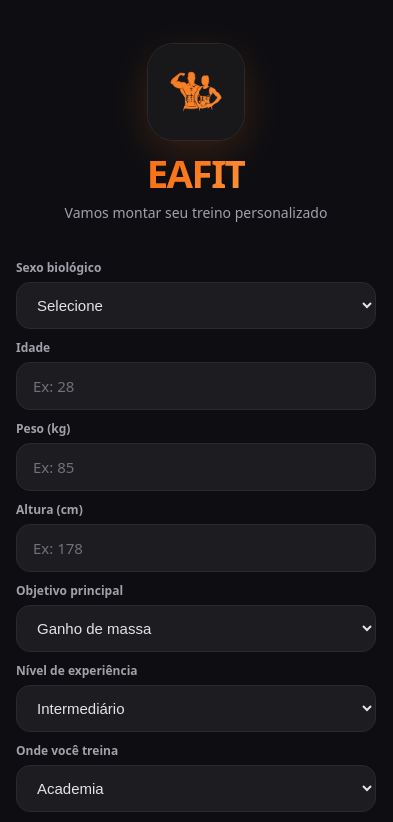
Scenario: OnboardingScreen › valida {"sexo":""}
Select "Selecione" in the dropdown labelled "Sexo biológico" at (196,306), box [16,282,376,329]
Type "30" into the number field labelled "Idade" at (196,386), box [16,362,376,410]
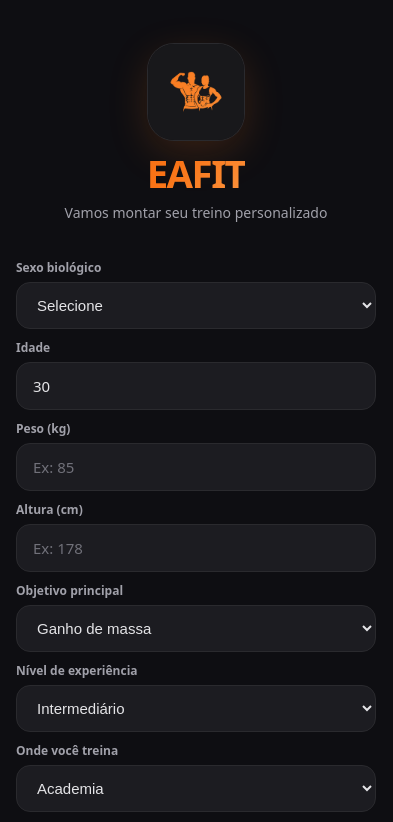
Type "80" into the number field labelled "Peso (kg)" at (196,467), box [16,443,376,491]
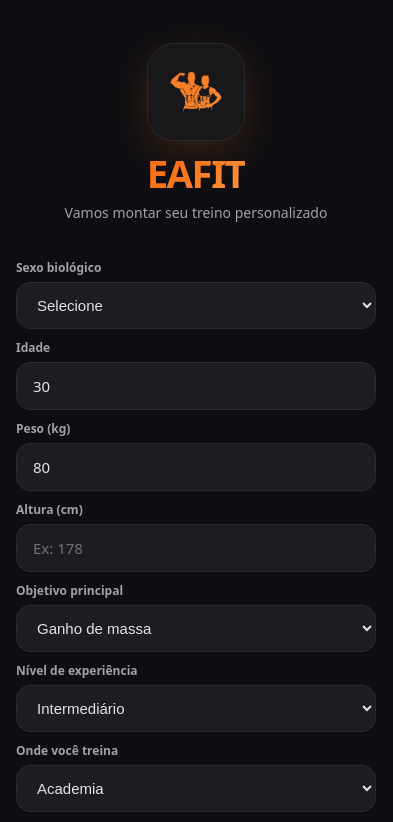
Type "180" into the number field labelled "Altura (cm)" at (196,548), box [16,524,376,572]
(page scrolled)
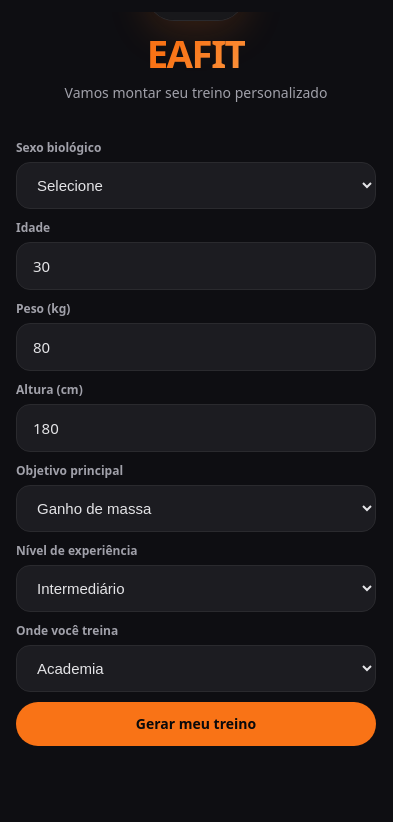
Click the button "Gerar meu treino" at (196,724), box [16,702,376,746]
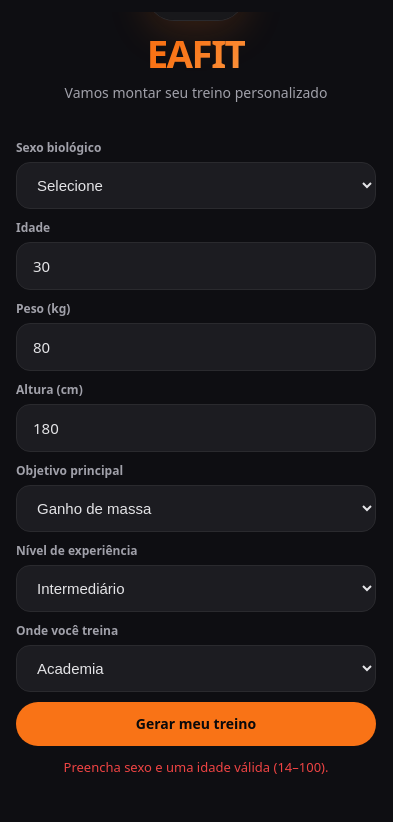
Expected: the text "Preencha sexo e uma idade válida (14–100)." is shown, [64,758,328,776]
